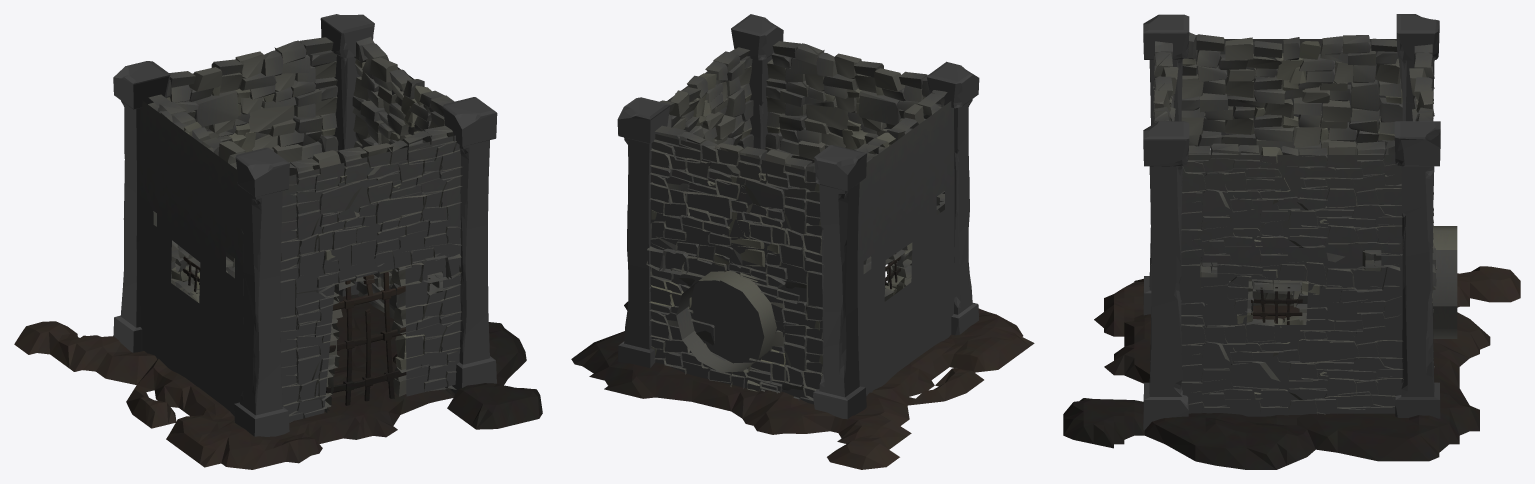
3 views of the same model, side by side, from view 1: azimuth 30°, elevation 25°; view 2: azimuth 150°, elevation 25°; view 3: azimuth 270°, elevation 25° (orthographic). The views are drawn at different scales.
Visible parts, largest first — view 1: wall_jail, Pillar_004, Ground, Bars; view 2: wall_jail, Pillar_004, Ground; view 3: wall_jail, Ground, Pillar_004, window02.
Boxes of the visible parts, x1,y1,x2,y2 form: wall_jail: (139,36,462,422); Pillar_004: (113,14,497,436); Ground: (14,293,542,469); Bars: (326,272,406,405); wall_jail: (646,41,954,404); Pillar_004: (617,14,979,419); Ground: (571,301,1034,469); wall_jail: (1150,32,1457,416); Ground: (1063,266,1520,469); Pillar_004: (1143,14,1440,430); window02: (1251,287,1302,324).
Bounding box in the file's own units: 365 × 256 × 357.
